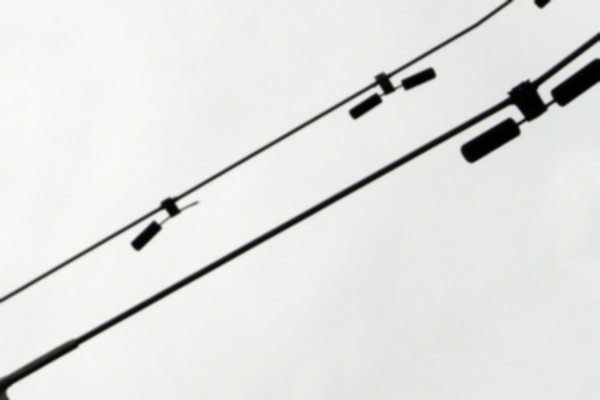damper: (459, 56, 599, 167), (347, 63, 439, 123)
damper_defect: (130, 193, 203, 252)
